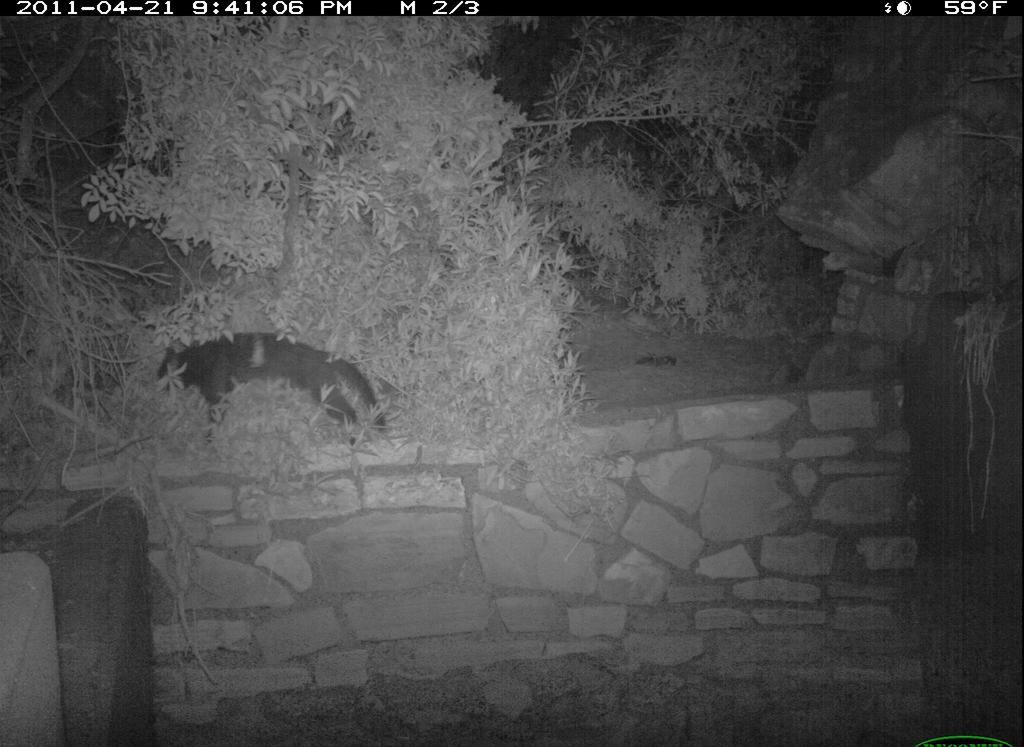cat: (132, 315, 404, 460)
